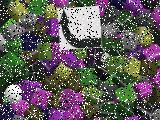Right: (58, 6, 102, 50)
